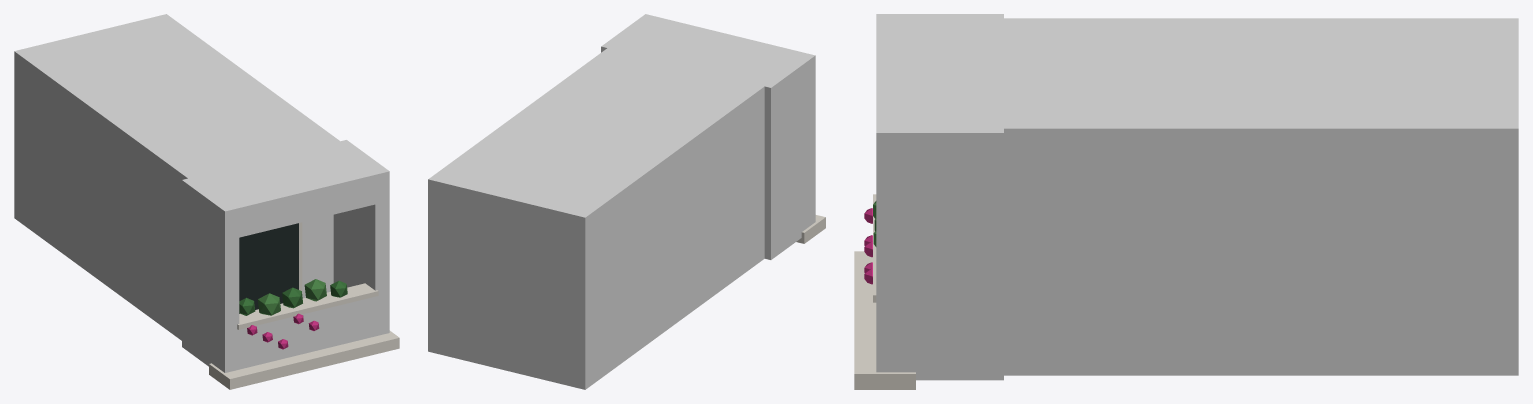
File: lau_lo_gia_32.glb
3 views of the same model, side by side, from view 1: azimuth 30°, elevation 25°; view 2: azimuth 150°, elevation 25°; view 3: azimuth 270°, elevation 25° (orthographic). The views are drawn at different scales.
Parts seen in each view (by area): view 1: lau_lo_gia_32; view 2: lau_lo_gia_32; view 3: lau_lo_gia_32.
Boxes of the visible parts, x1=… form: lau_lo_gia_32: x1=14, y1=14, x2=399, y2=389; lau_lo_gia_32: x1=428, y1=14, x2=825, y2=389; lau_lo_gia_32: x1=854, y1=14, x2=1518, y2=389.
Bounding box in the file's own units: 3.3 × 3.2 × 7.55.
